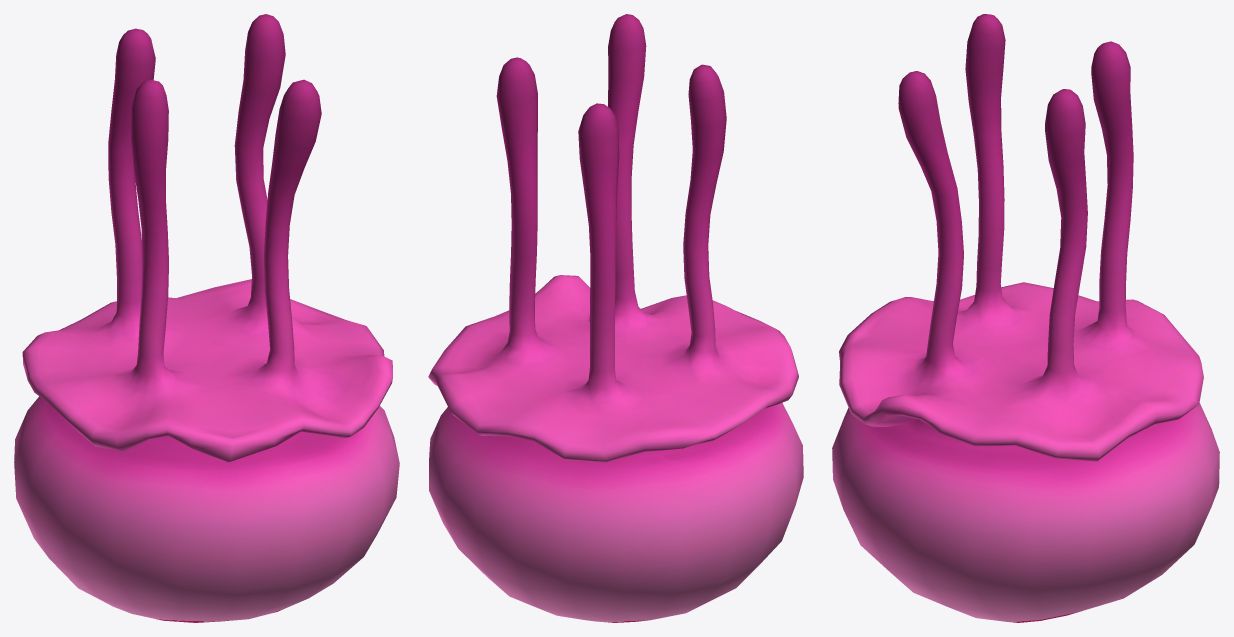
The model's file is Medusa.obj.
3 views of the same model, side by side, from view 1: azimuth 30°, elevation 25°; view 2: azimuth 150°, elevation 25°; view 3: azimuth 270°, elevation 25° (orthographic). The views are drawn at different scales.
Parts seen in each view (by area): view 1: enemyJellyfish_mesh_mo; view 2: enemyJellyfish_mesh_mo; view 3: enemyJellyfish_mesh_mo.
Boxes of the visible parts, x1,y1,x2,y2 form: enemyJellyfish_mesh_mo: [14, 14, 399, 622]; enemyJellyfish_mesh_mo: [428, 14, 803, 622]; enemyJellyfish_mesh_mo: [832, 14, 1219, 622].
Size of the model in its own units: 1.8 by 2.86 by 1.82.
